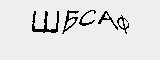А: (96, 10, 120, 32)
Б: (63, 7, 78, 37)
С: (80, 7, 98, 28)
Ф: (117, 12, 133, 35)
Ш: (29, 8, 59, 33)
